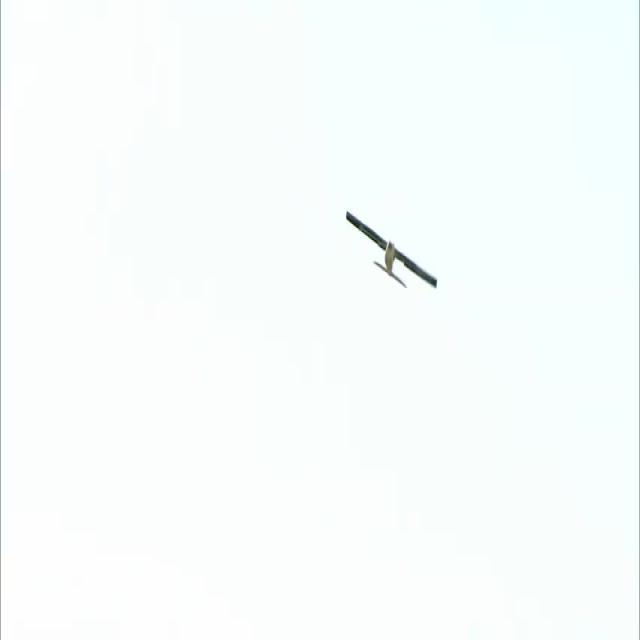iha: (370, 241, 398, 256)
